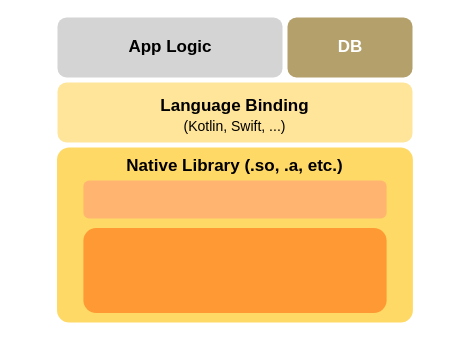
The diagram is 469 pixels wide and 339 high, and some of its shapes have lost their labels. Here are the shapes that lost their labels. From the top down, the centre of each, then its label:
point (234, 199): FFI
point (234, 269): TAPLE Core
